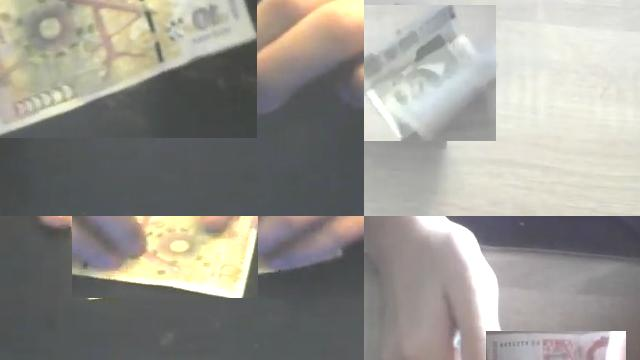10leva: (364, 5, 496, 141), (72, 216, 257, 298)
5leva: (486, 331, 610, 360)
